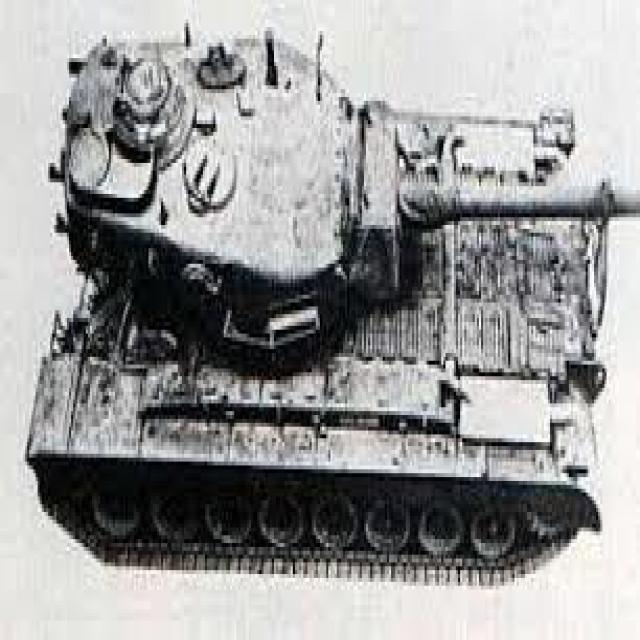Tanks: (36, 33, 568, 591)
